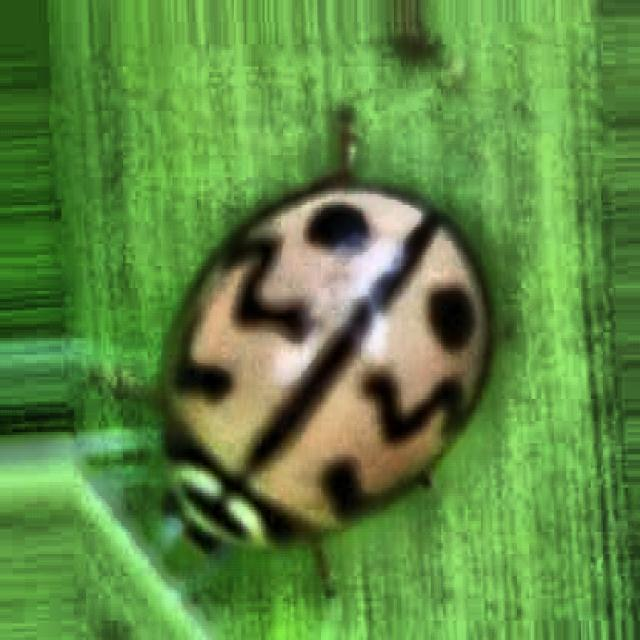Asian-Lady-beetle: (121, 120, 522, 598)
